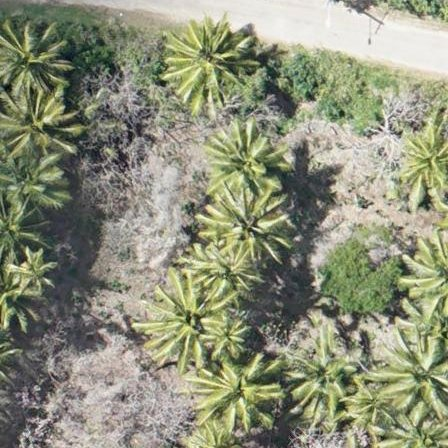palm_tree: (157, 10, 256, 116), (144, 273, 229, 363), (373, 324, 448, 418), (210, 178, 288, 261), (200, 349, 273, 428), (209, 122, 282, 199), (1, 151, 71, 228), (288, 331, 357, 405), (1, 20, 62, 103), (1, 95, 77, 158), (188, 241, 261, 305), (399, 223, 448, 318), (391, 122, 448, 199), (377, 405, 448, 448), (5, 247, 59, 295)
